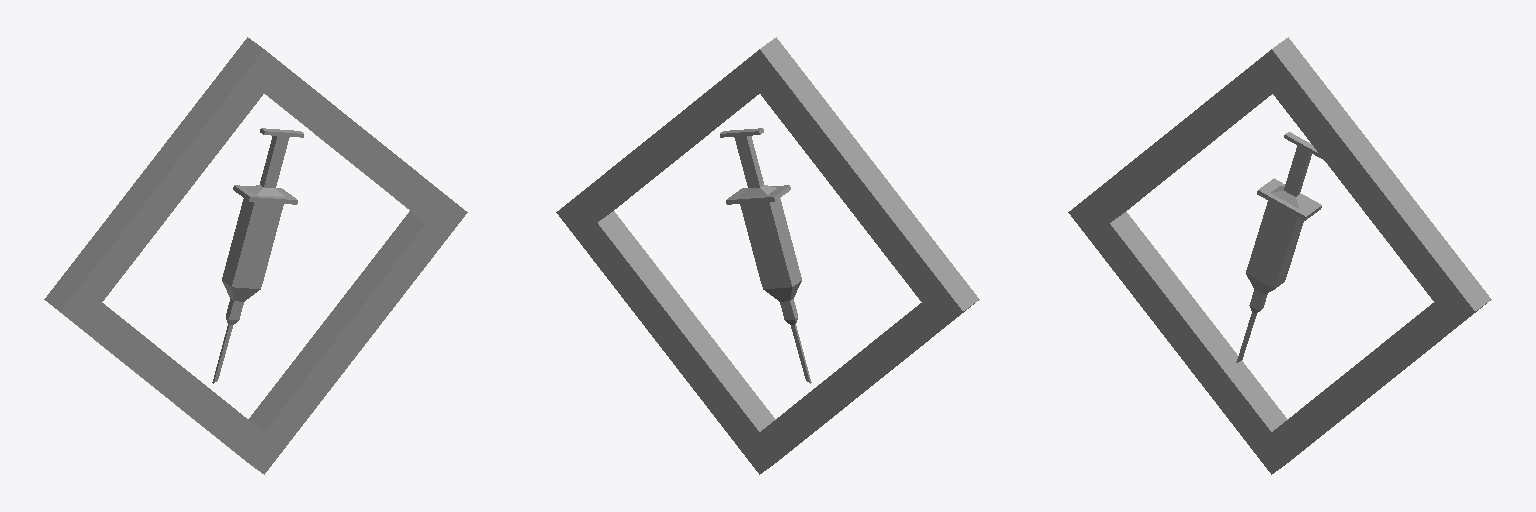
The model's file is regeneration.obj.
3 views of the same model, side by side, from view 1: azimuth 30°, elevation 25°; view 2: azimuth 150°, elevation 25°; view 3: azimuth 330°, elevation 25° (orthographic).
Parts seen in each view (by area): view 1: Cube; view 2: Cube; view 3: Cube.
Part boxes in pixels (bbox=[...]): Cube: bbox=[44, 37, 467, 474]; Cube: bbox=[556, 37, 979, 474]; Cube: bbox=[1068, 37, 1491, 474].
Size of the model in its own units: 2.55 by 2.55 by 0.18.